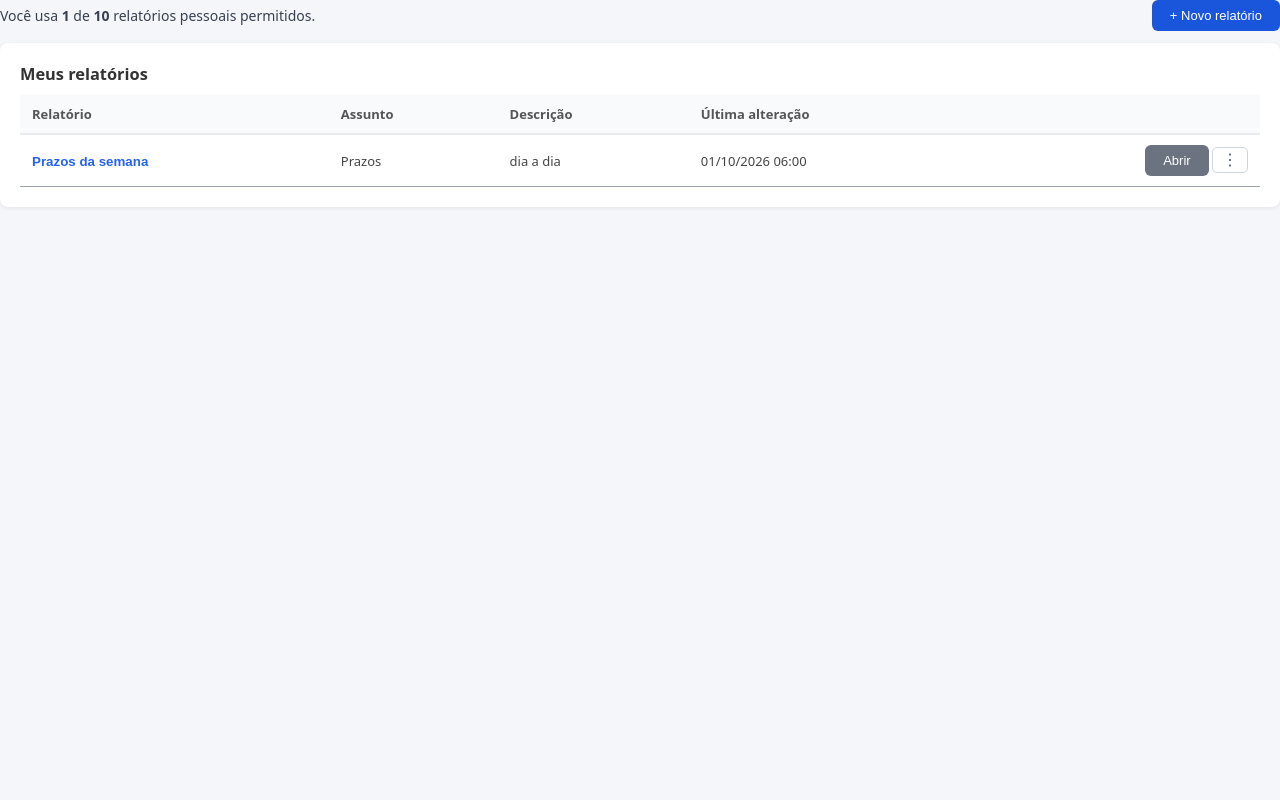
Test case: Relatórios (tela nova) › agrupar: o passo oferece só o que faz sentido, roda agrupado e mostra grupos e total geral
Click the button "+ Novo relatório" at (1216, 16), box [1152,0,1279,31]
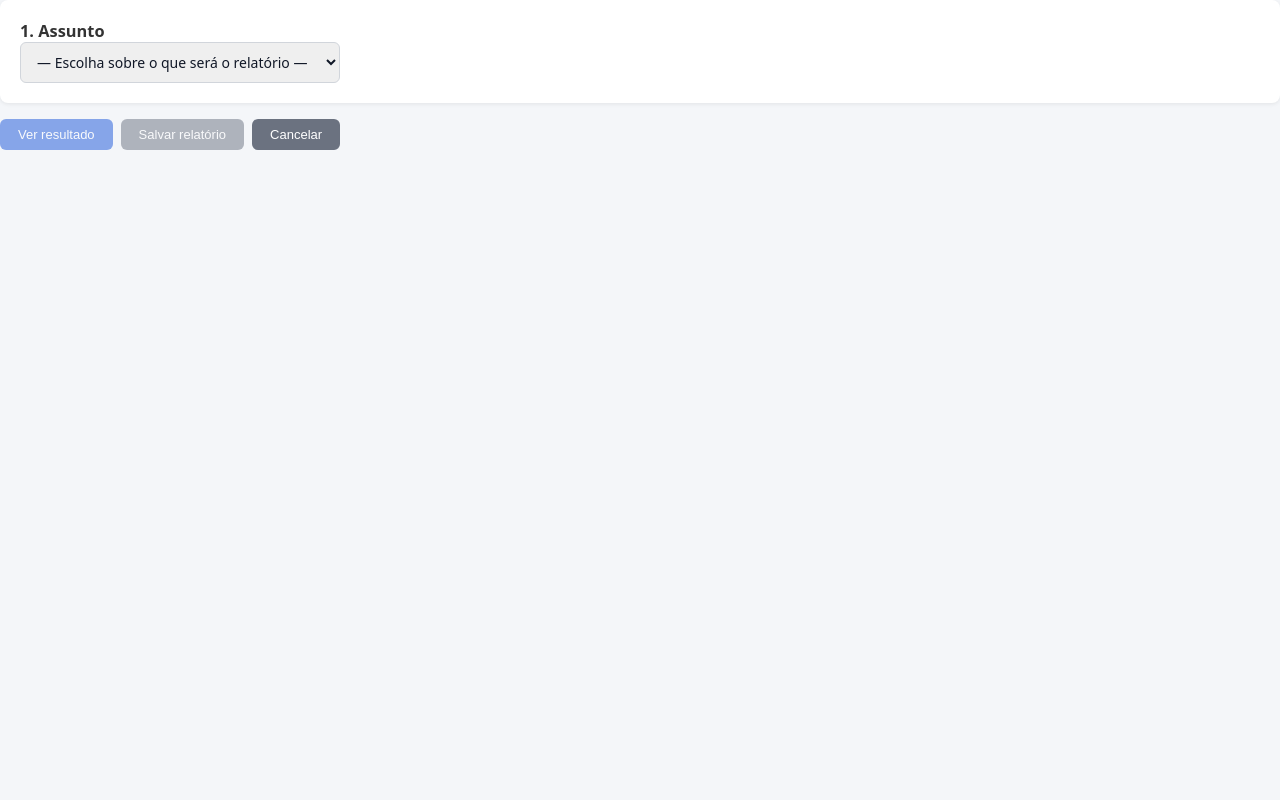
Select "Prazos" in the dropdown named "Assunto do relatório" at (180, 62), box [20,42,340,83]
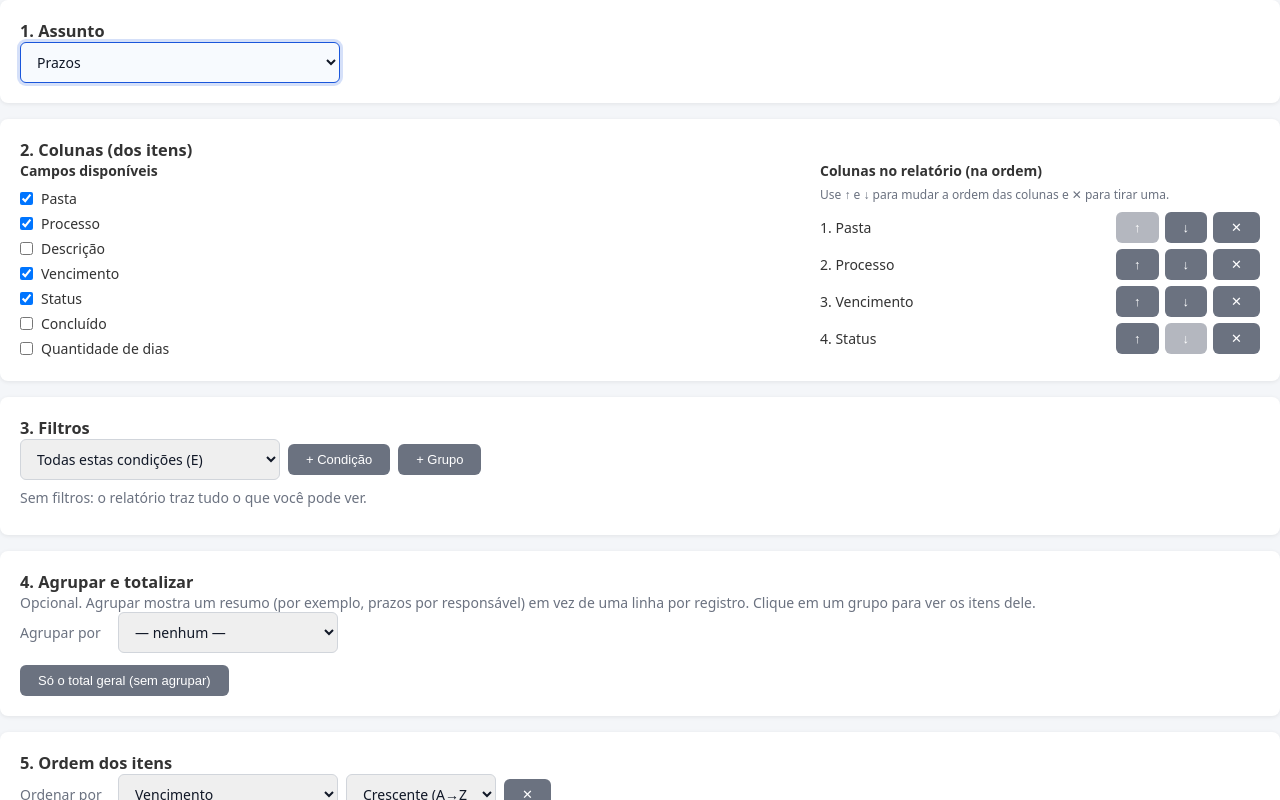
Check: the option does not show "Descrição"
Check: the label "Status" is shown, box [20,289,82,308]
Select "Status" in the dropdown named "Agrupar por (1)" at (228, 632), box [118,612,338,653]
(page scrolled)
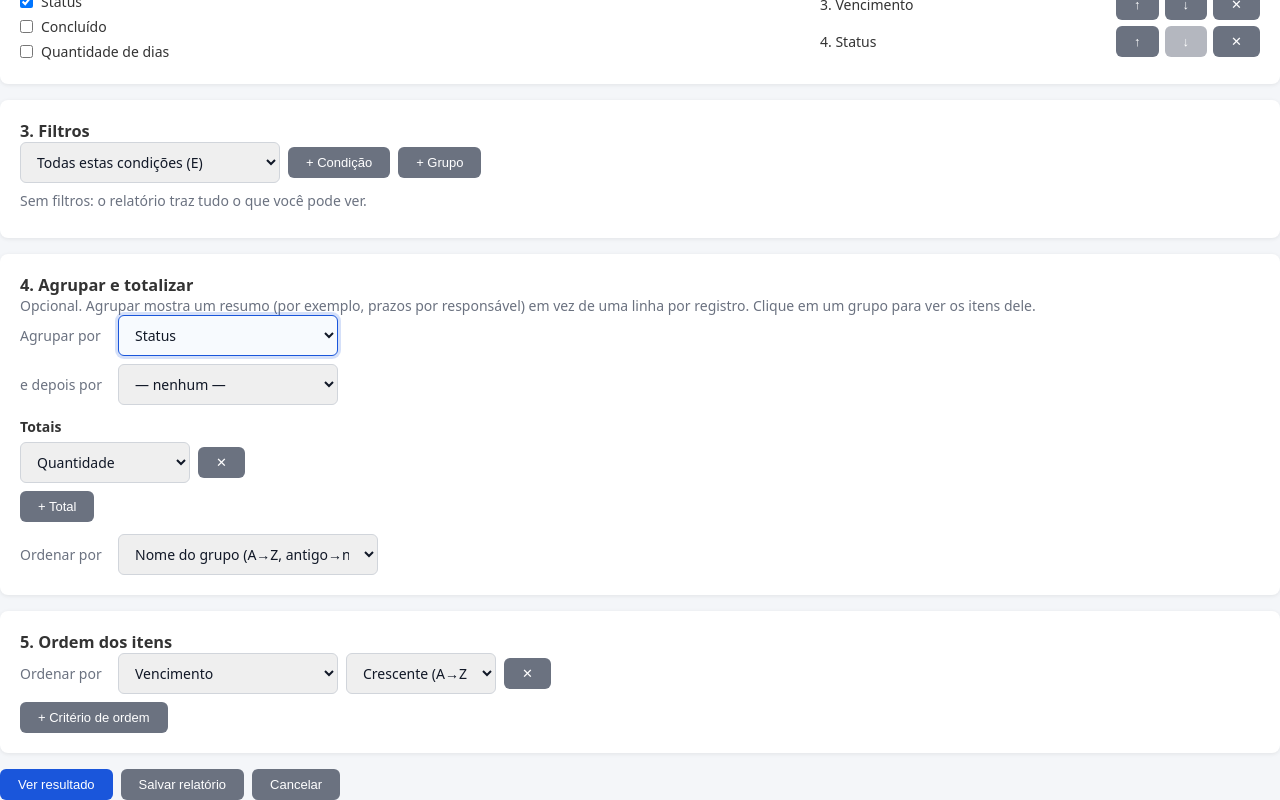
Check: the dropdown named "Total 1" shows "Quantidade", box [20,442,190,483]
Click the button "+ Total" at (57, 506), box [20,491,94,522]
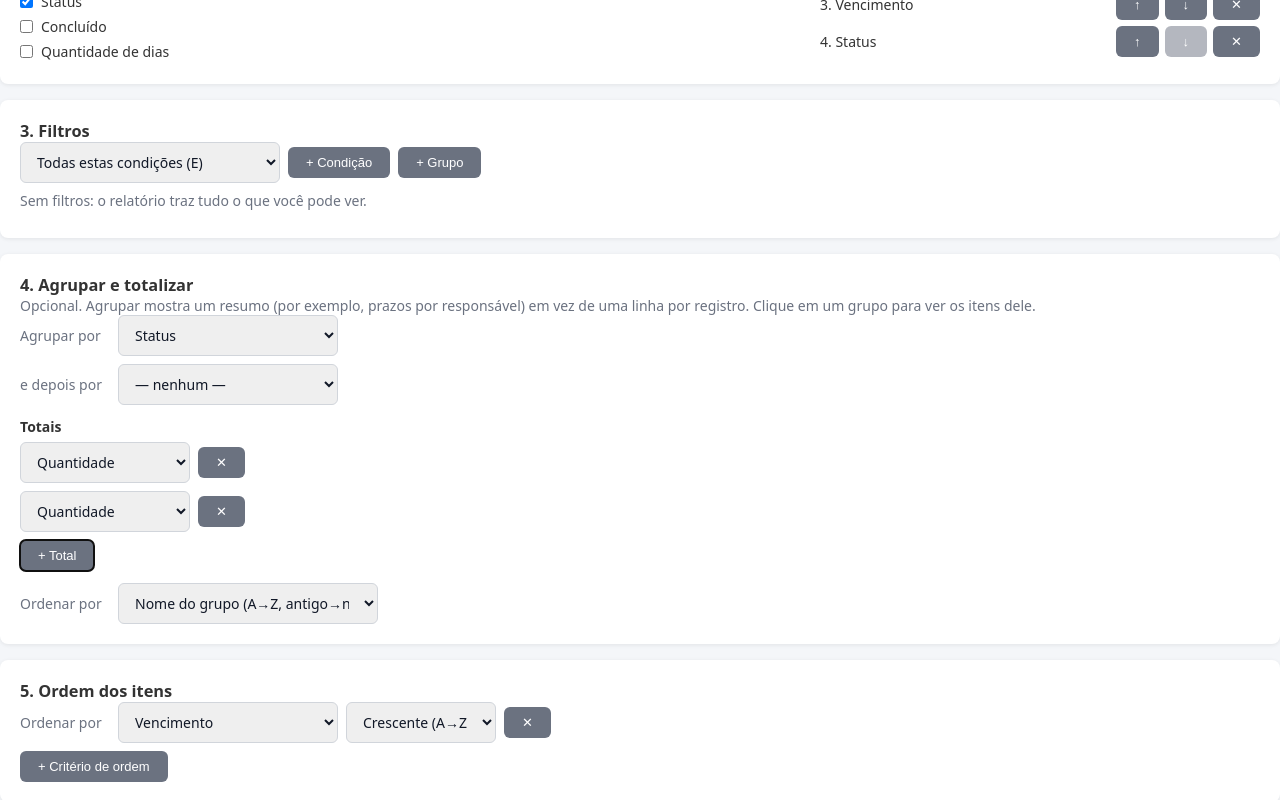
Select "Média" in the dropdown named "Total 2" at (105, 512), box [20,491,190,532]
(page scrolled)
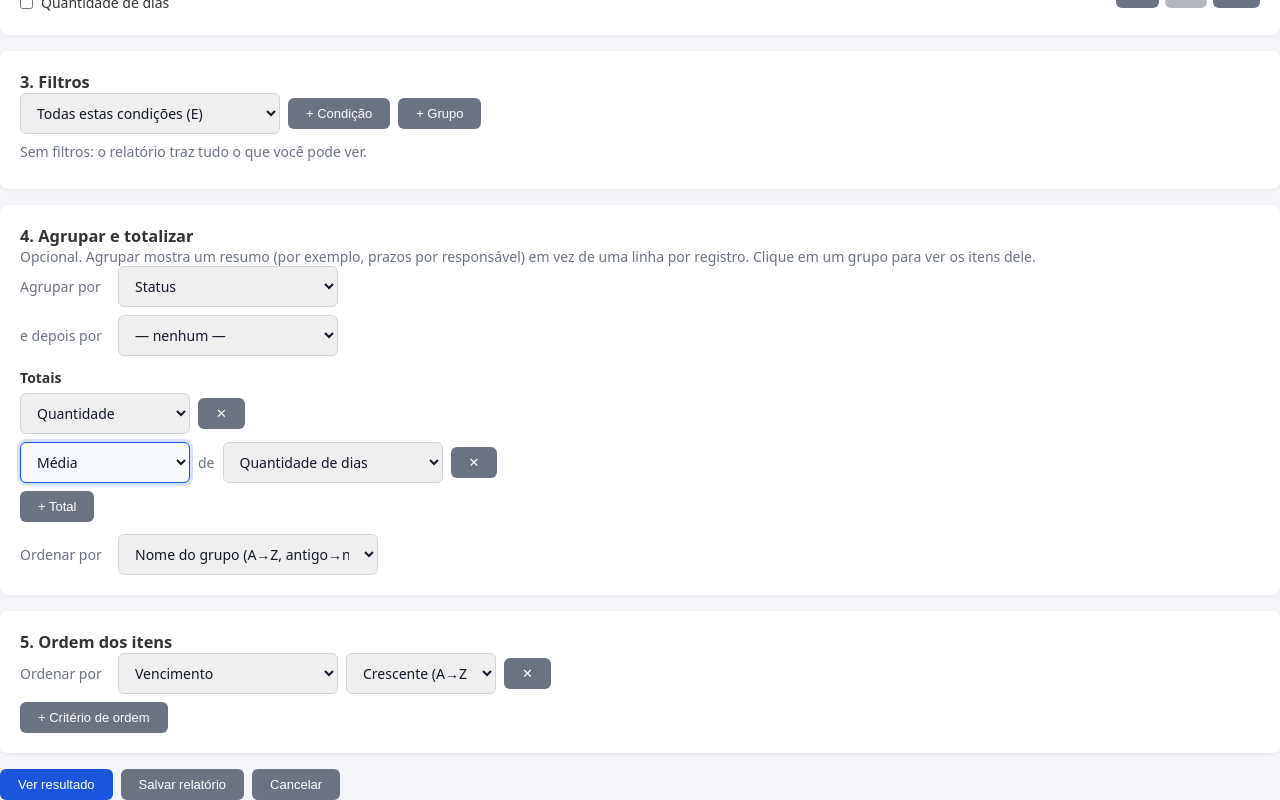
Check: the dropdown named "Campo do total 2" shows "Quantidade de dias", box [222,442,442,483]
Click the button "Ver resultado" at (56, 784), box [0,769,113,799]
(page scrolled)
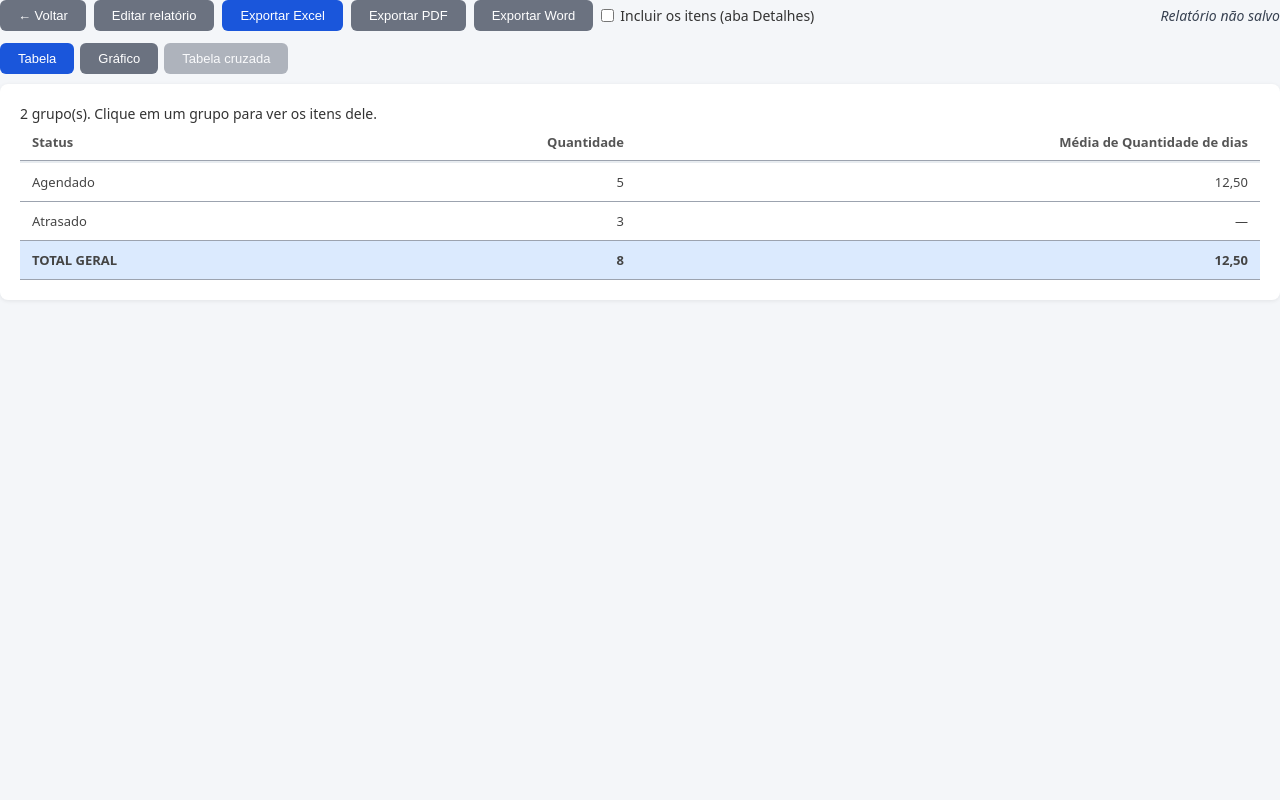
Check: the text "2 grupo(s). Clique em um grupo para ver os itens dele." is shown, box [20,104,377,123]
